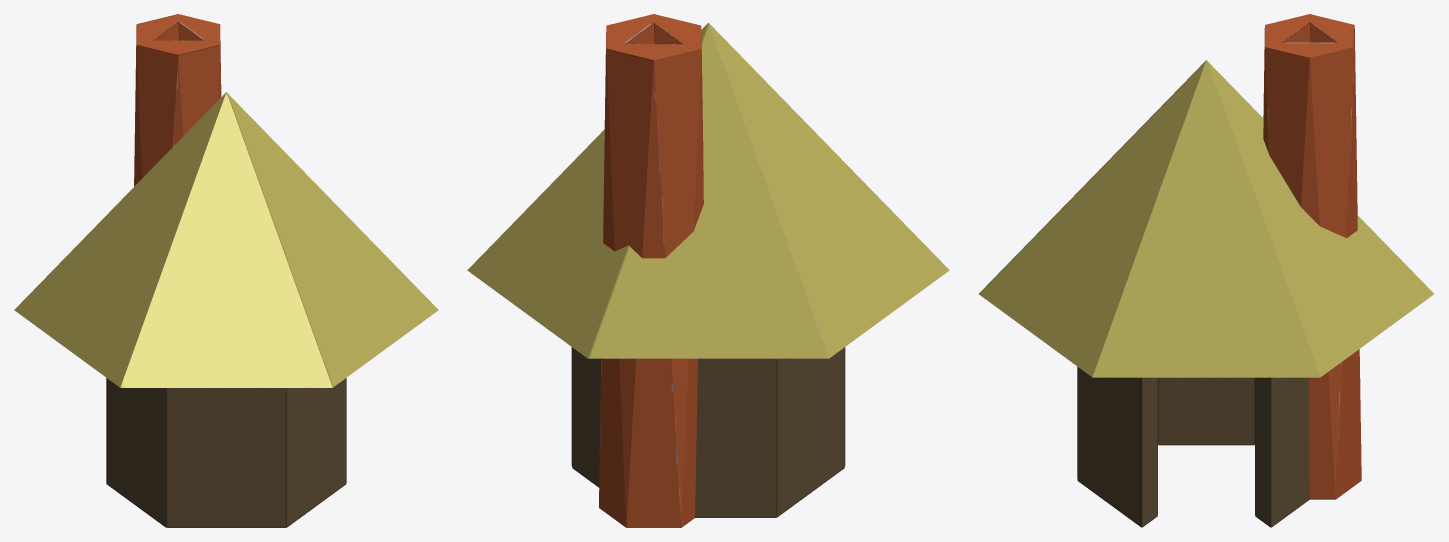
File: VictoryHouse.obj
The picture shows the model from 3 angles, left to right: view 1: azimuth 30°, elevation 25°; view 2: azimuth 150°, elevation 25°; view 3: azimuth 270°, elevation 25°; orthographic projection. The views are drawn at different scales.
Visible parts, largest first — view 1: House; view 2: House; view 3: House.
Part boxes in pixels (x1,y1,x2,y2): House: (14,14,438,527); House: (467,14,949,527); House: (979,14,1433,527).
Size of the model in its own units: 1.53 by 1.9 by 1.77.
1 material, 1 textured.
